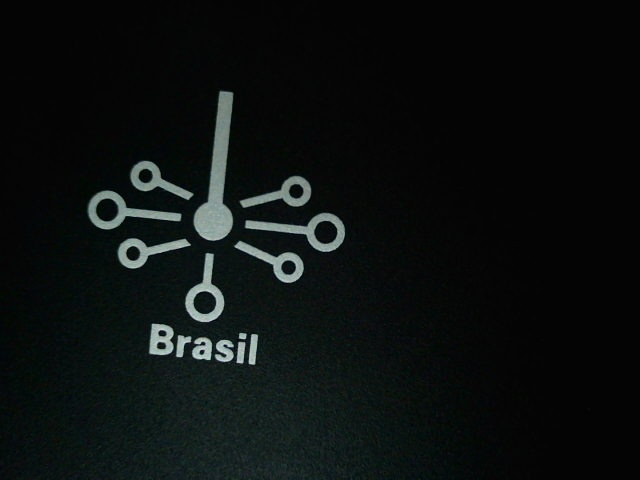BG_Brasil: (60, 65, 367, 390)
